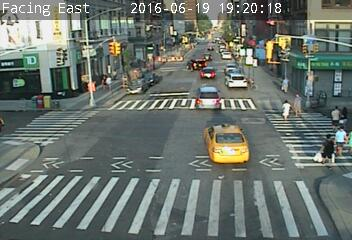neg: (210, 110, 246, 157), (163, 127, 195, 171), (242, 183, 271, 221), (264, 136, 292, 173), (23, 105, 48, 138), (104, 107, 128, 139), (48, 158, 72, 190), (132, 186, 156, 218), (77, 100, 97, 127), (172, 51, 190, 76), (101, 166, 119, 190), (233, 63, 251, 86), (265, 49, 282, 73), (59, 68, 76, 90), (154, 73, 165, 88)
pos: (317, 133, 341, 165), (279, 95, 299, 122), (329, 103, 345, 124), (334, 126, 348, 144)
